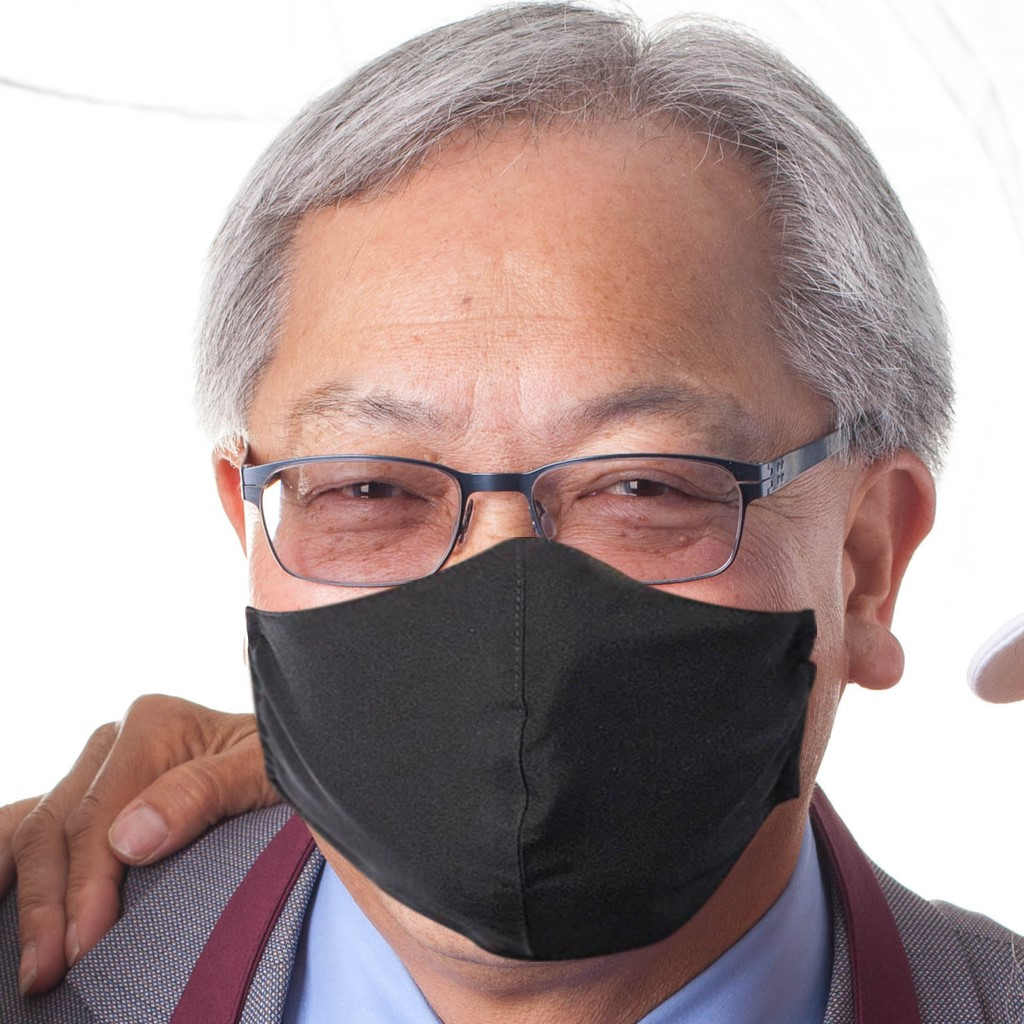con_mascara: (230, 119, 870, 942)
